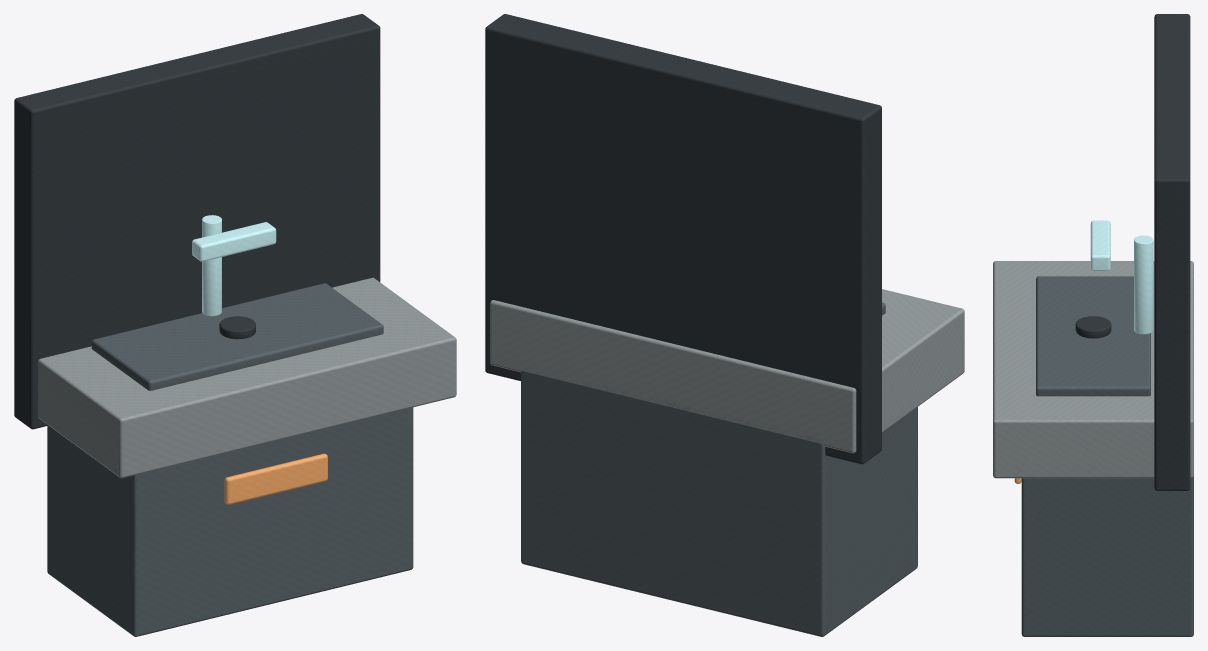
The model's file is DeconSink.glb.
The picture shows the model from 3 angles, left to right: view 1: azimuth 30°, elevation 25°; view 2: azimuth 150°, elevation 25°; view 3: azimuth 270°, elevation 25°; orthographic projection. The views are drawn at different scales.
Visible parts, largest first — view 1: DeconSink_Mesh; view 2: DeconSink_Mesh; view 3: DeconSink_Mesh.
Part boxes in pixels (x1,y1,x2,y2): DeconSink_Mesh: [14, 14, 456, 636]; DeconSink_Mesh: [485, 14, 964, 636]; DeconSink_Mesh: [993, 14, 1193, 636].
Bounding box in the file's own units: 1.1 × 1.46 × 0.56.
5 materials, 5 textured.
